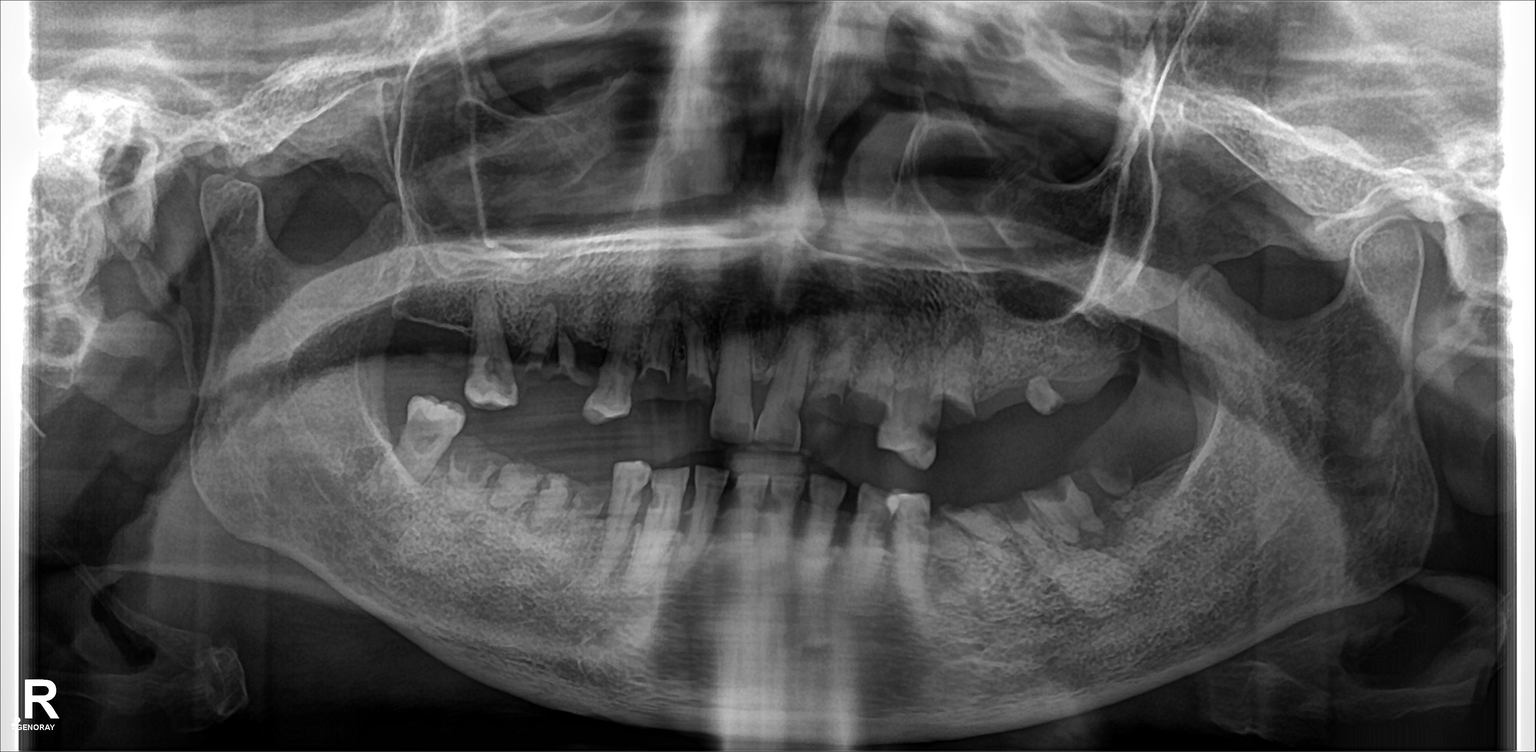Dental Caries: (475, 341, 511, 389), (408, 406, 445, 448)
Missing Tooth: (384, 303, 466, 384), (1151, 434, 1208, 536), (981, 335, 1032, 437), (1069, 322, 1110, 420), (1110, 320, 1152, 402), (924, 486, 949, 578)
Retained Root: (1032, 463, 1089, 565), (801, 337, 848, 437), (953, 480, 998, 579), (454, 413, 499, 508), (1095, 454, 1141, 545), (998, 475, 1037, 579), (940, 341, 983, 429), (1021, 339, 1064, 423), (499, 430, 536, 524), (849, 344, 889, 428), (669, 329, 709, 411), (534, 437, 566, 535), (572, 449, 606, 541), (633, 324, 669, 410), (548, 322, 583, 395), (521, 318, 550, 396)
